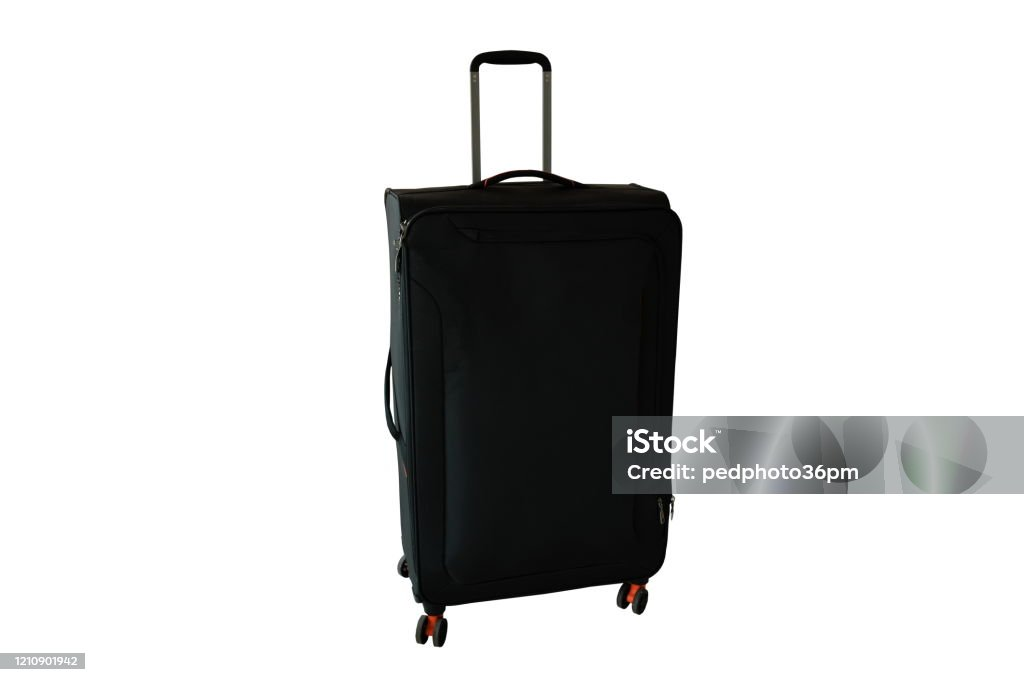Bag: (375, 34, 684, 651)
Handle: (454, 42, 579, 186)
